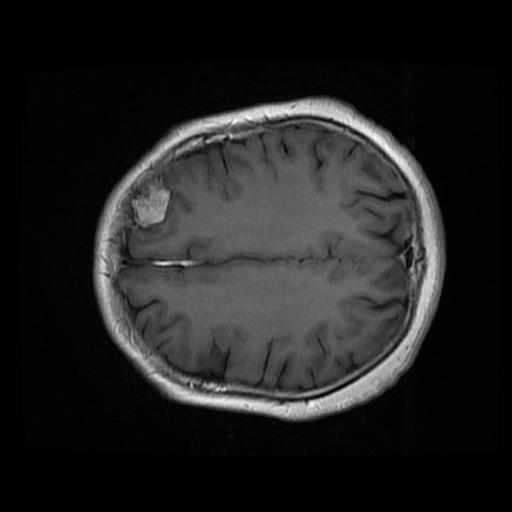meningioma: (131, 174, 171, 228)
